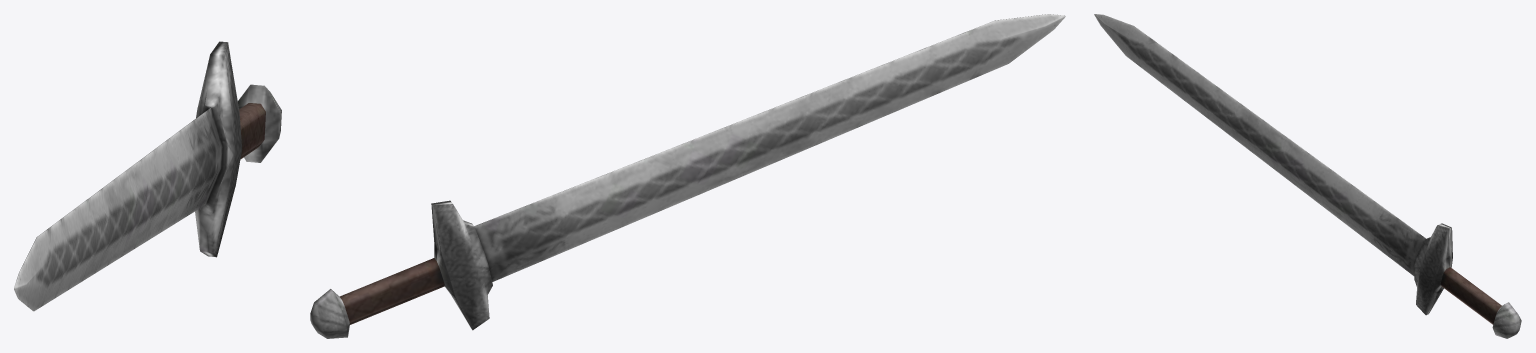
Rendered from rider-weapon-slice-ironweapons.glb.
3 renders of one model, left to right at view 1: azimuth 30°, elevation 25°; view 2: azimuth 150°, elevation 25°; view 3: azimuth 270°, elevation 25°, orthographic. The views are drawn at different scales.
Size of the model in its own units: 0.7586 by 0.3707 by 0.8233.
Materials: 1 (1 with a texture image).
